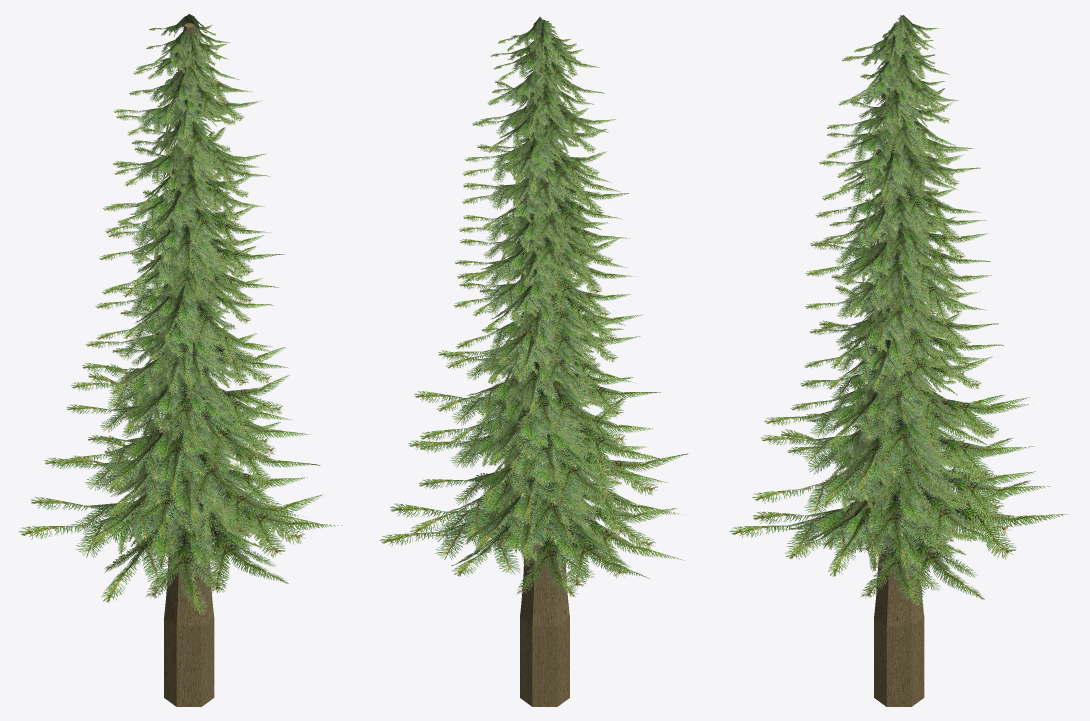
File: LongPine.fbx
The picture shows the model from 3 angles, left to right: view 1: azimuth 30°, elevation 25°; view 2: azimuth 150°, elevation 25°; view 3: azimuth 270°, elevation 25°; orthographic projection.
Parts seen in each view (by area): view 1: Cylinder; view 2: Cylinder; view 3: Cylinder.
Part boxes in pixels (left/top/right/bottom): Cylinder: left=19, top=14, right=341, bottom=706; Cylinder: left=379, top=16, right=687, bottom=706; Cylinder: left=729, top=15, right=1069, bottom=706.
Bounding box in the file's own units: 1343 × 3000 × 1396.
Materials: 2 (2 with a texture image).
